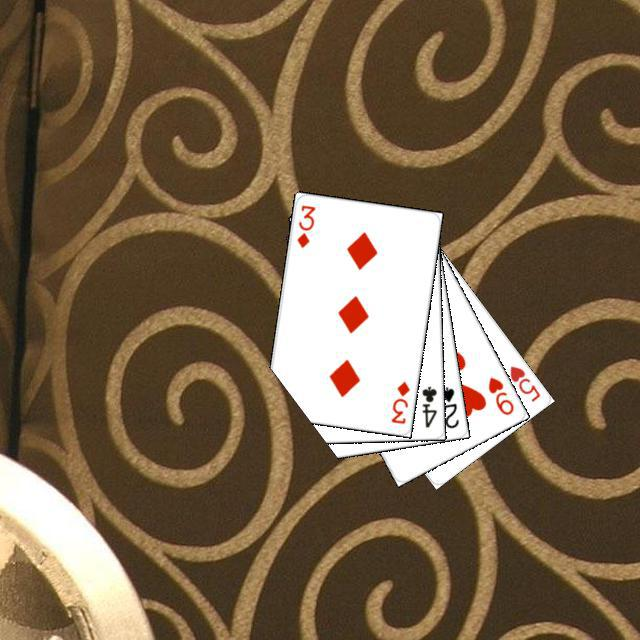2s: (436, 382, 460, 430)
3d: (386, 376, 411, 425), (292, 200, 317, 249)
4c: (417, 381, 439, 429)
5h: (505, 361, 542, 404)
9h: (483, 372, 515, 417)
